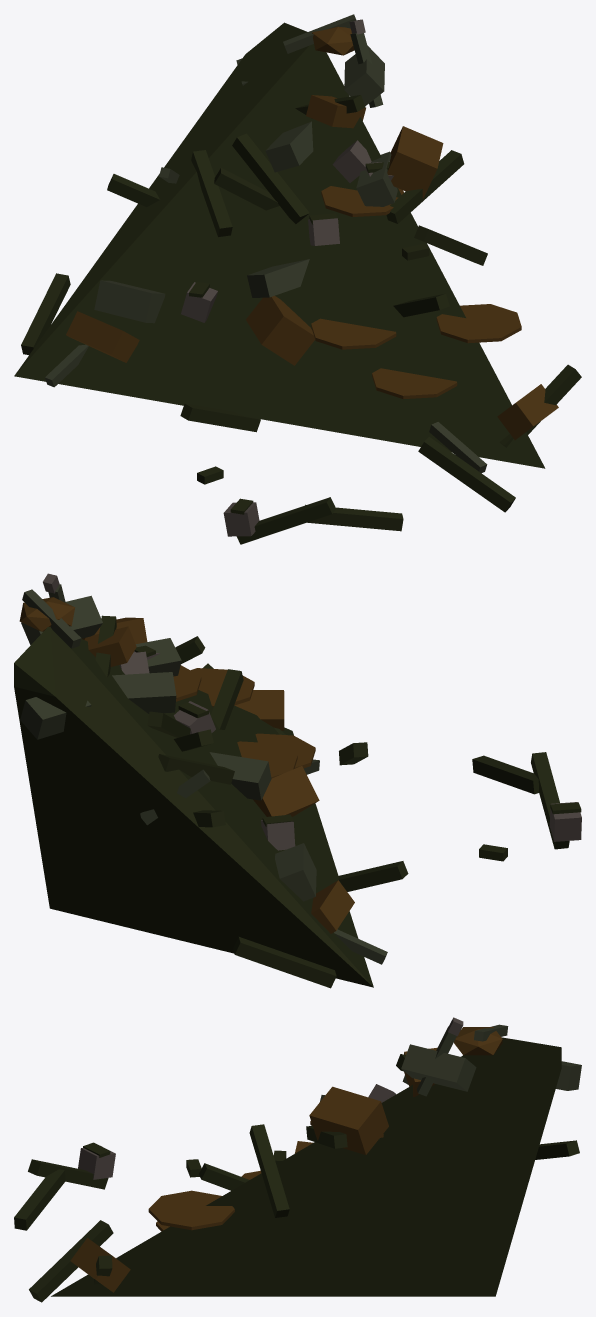
Rendered from SM_PilaZombi_RemateIzq_Altura5_s1_LOD0.fbx.
3 renders of one model, top to bottom at view 1: azimuth 30°, elevation 25°; view 2: azimuth 150°, elevation 25°; view 3: azimuth 270°, elevation 25°, orthographic. The views are drawn at different scales.
Visible parts, largest first — view 1: SM_pila_zombis_v9_LOD0; view 2: SM_pila_zombis_v9_LOD0; view 3: SM_pila_zombis_v9_LOD0.
Boxes of the visible parts, <box> form: SM_pila_zombis_v9_LOD0: <box>14,14,581,544</box>; SM_pila_zombis_v9_LOD0: <box>14,573,581,988</box>; SM_pila_zombis_v9_LOD0: <box>14,1017,581,1302</box>.
Bounding box in the file's own units: 3.48 × 2.87 × 4.75.
